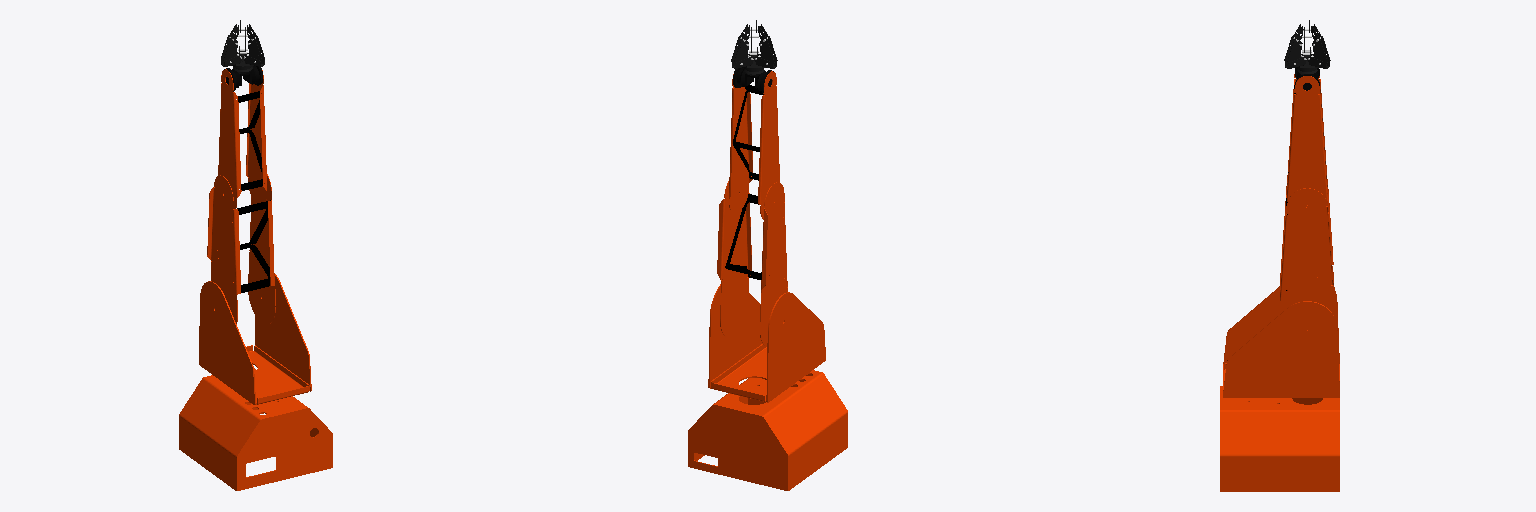
robot.urdf — armdroid1:
<robot name="armdroid1">
  <link name="base_link">
    <visual>
      <geometry>
        <mesh filename="package://armdroid1_description/meshes/visual/base.dae"/>
      </geometry>
    </visual>
  </link>
  <link name="shoulder_link">
    <visual>
      <geometry>
        <mesh filename="package://armdroid1_description/meshes/visual/shoulder.dae"/>
      </geometry>
    </visual>
  </link>
  <link name="lowerarm_link">
    <visual>
      <geometry>
        <mesh filename="package://armdroid1_description/meshes/visual/lowerarm.dae"/>
      </geometry>
    </visual>
  </link>
  <link name="upperarm_link">
    <visual>
      <origin xyz="0 0 -0.19" rpy="0 0 0 "/>
      <geometry>
        <mesh filename="package://armdroid1_description/meshes/visual/upperarm.dae"/>
      </geometry>
    </visual>
  </link>
  <link name="wrist1_link" >
    <visual>
      <origin xyz="0 0 0" rpy="0 0 1.57079632679"/>
      <geometry>
        <mesh filename="package://armdroid1_description/meshes/visual/wrist.dae"/>
      </geometry>
    </visual>
  </link>
  <link name="wrist2_link">
    <visual>
      <origin xyz="0 0 0.016" rpy="0 1.57079632679 0 "/>
      <geometry>
        <mesh filename="package://armdroid1_description/meshes/visual/hand.dae"/>
      </geometry>
    </visual>
  </link>
  <link name="tool_link" />

  <joint name="base_joint" type="revolute">
    <parent link="base_link" />
    <child link="shoulder_link" />
    <origin xyz="0 -0.048 0.139" rpy="0 0 0" />
    <axis xyz="0 0 1" />
    <limit lower="-3.141592" upper="3.141592" effort="0" velocity="0" />
  </joint>

  <joint name="lowerarm_joint" type="revolute">
    <parent link="shoulder_link" />
    <child link="lowerarm_link" />
    <origin xyz="0 0 0.112" rpy="0 0 -1.57079632679" />
    <axis xyz="0 -1 0" />
    <limit lower="-1.088736" upper="2.331236" effort="0" velocity="0" />
  </joint>

  <joint name="upperarm_joint" type="revolute">
    <parent link="lowerarm_link" />
    <child link="upperarm_link" />
    <origin xyz="0 0 0.19" rpy="0 0 0" />
    <axis xyz="0 -1 0" />
    <limit lower="-0.9892526" upper="2.593908" effort="0" velocity="0" />
  </joint>

  <joint name="wrist1_joint" type="revolute"> <parent link="upperarm_link" />
    <child link="wrist1_link" />
    <origin xyz="0 0 0.19" rpy="0 0 0" />
    <axis xyz="0 -1 0" />
    <limit lower="-1.570796" upper="1.570796" effort="0" velocity="0" />
  </joint>

  <joint name="wrist2_joint" type="revolute">
    <parent link="wrist1_link" />
    <child link="wrist2_link" />
    <origin xyz="0 0 0.01" rpy="0 0 0" />
    <axis xyz="0 0 1" />
    <limit lower="-1.570796" upper="1.570796" effort="0" velocity="0" />
  </joint>

  <joint name="tool_joint" type="fixed">
    <parent link="wrist2_link" />
    <child link="tool_link" />
    <origin xyz="0 0 0.088" rpy="0 0 0" />
    <axis xyz="0 0 1" />
  </joint>




</robot>

--- Facts derived from the render (not from the file) ---
Views: 3 orthographic renders of the robot side by side, from view 1: azimuth 30°, elevation 25°; view 2: azimuth 150°, elevation 25°; view 3: azimuth 270°, elevation 25°.
Robot: armdroid1 — 7 links, 6 joints (5 revolute, 1 fixed); root link base_link; default pose: every joint at zero.
Visible links, largest first — view 1: base_link, shoulder_link, lowerarm_link, upperarm_link, wrist2_link; view 2: base_link, shoulder_link, lowerarm_link, upperarm_link, wrist2_link; view 3: base_link, shoulder_link, lowerarm_link, upperarm_link, wrist2_link.
Boxes of the visible links, x1,y1,x2,y2 form: base_link: (179, 368, 332, 490); shoulder_link: (199, 274, 311, 404); lowerarm_link: (207, 174, 275, 324); upperarm_link: (218, 69, 266, 208); wrist2_link: (221, 20, 264, 73); base_link: (688, 370, 847, 490); shoulder_link: (708, 284, 825, 402); lowerarm_link: (717, 181, 787, 346); upperarm_link: (729, 71, 779, 219); wrist2_link: (731, 20, 777, 75); base_link: (1220, 386, 1339, 491); shoulder_link: (1223, 286, 1339, 397); lowerarm_link: (1278, 186, 1335, 329); upperarm_link: (1287, 74, 1327, 207); wrist2_link: (1284, 20, 1330, 74).
Bounding box of the posed robot: 0.17 × 0.176 × 0.7164 m (x, y, z).
6 mesh visuals loaded from 6 distinct referenced files (6 Collada DAE).